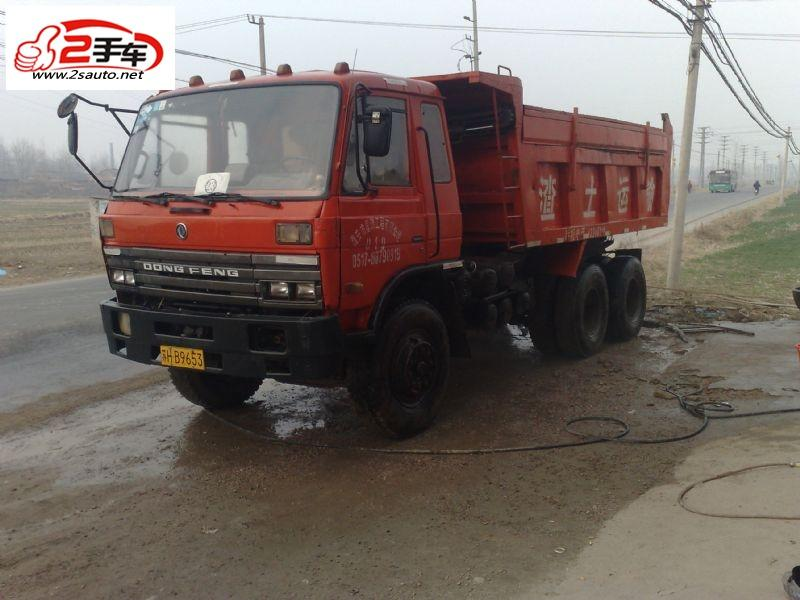truck: (91, 49, 676, 435)
